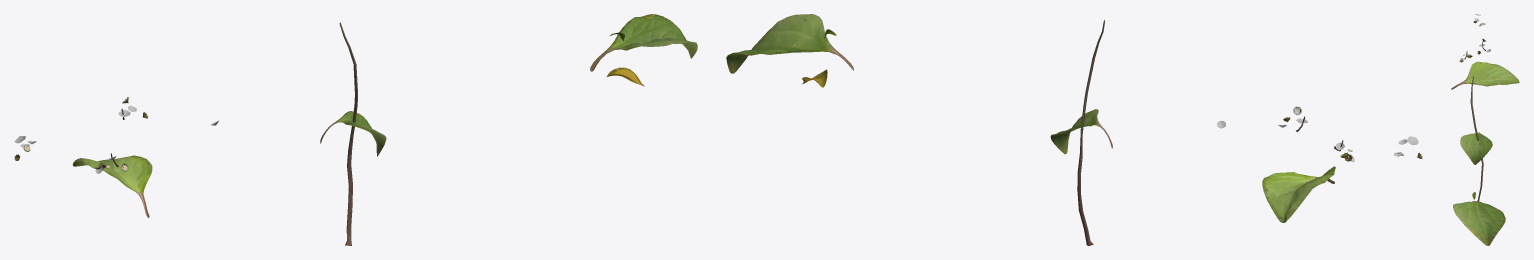
Rendered from shrub_01.glb.
3 renders of one model, left to right at view 1: azimuth 30°, elevation 25°; view 2: azimuth 150°, elevation 25°; view 3: azimuth 270°, elevation 25°, orthographic. The views are drawn at different scales.
Parts seen in each view (by area): view 1: shrub_01_a; view 2: shrub_01_a; view 3: shrub_01_a.
Part boxes in pixels (box(x1,y1,x2,y2)): shrub_01_a: box(14, 14, 697, 245); shrub_01_a: box(726, 14, 1422, 245); shrub_01_a: box(1451, 14, 1519, 245).
Size of the model in its own units: 2.67 by 0.8501 by 0.4199.
1 material, 1 textured.
